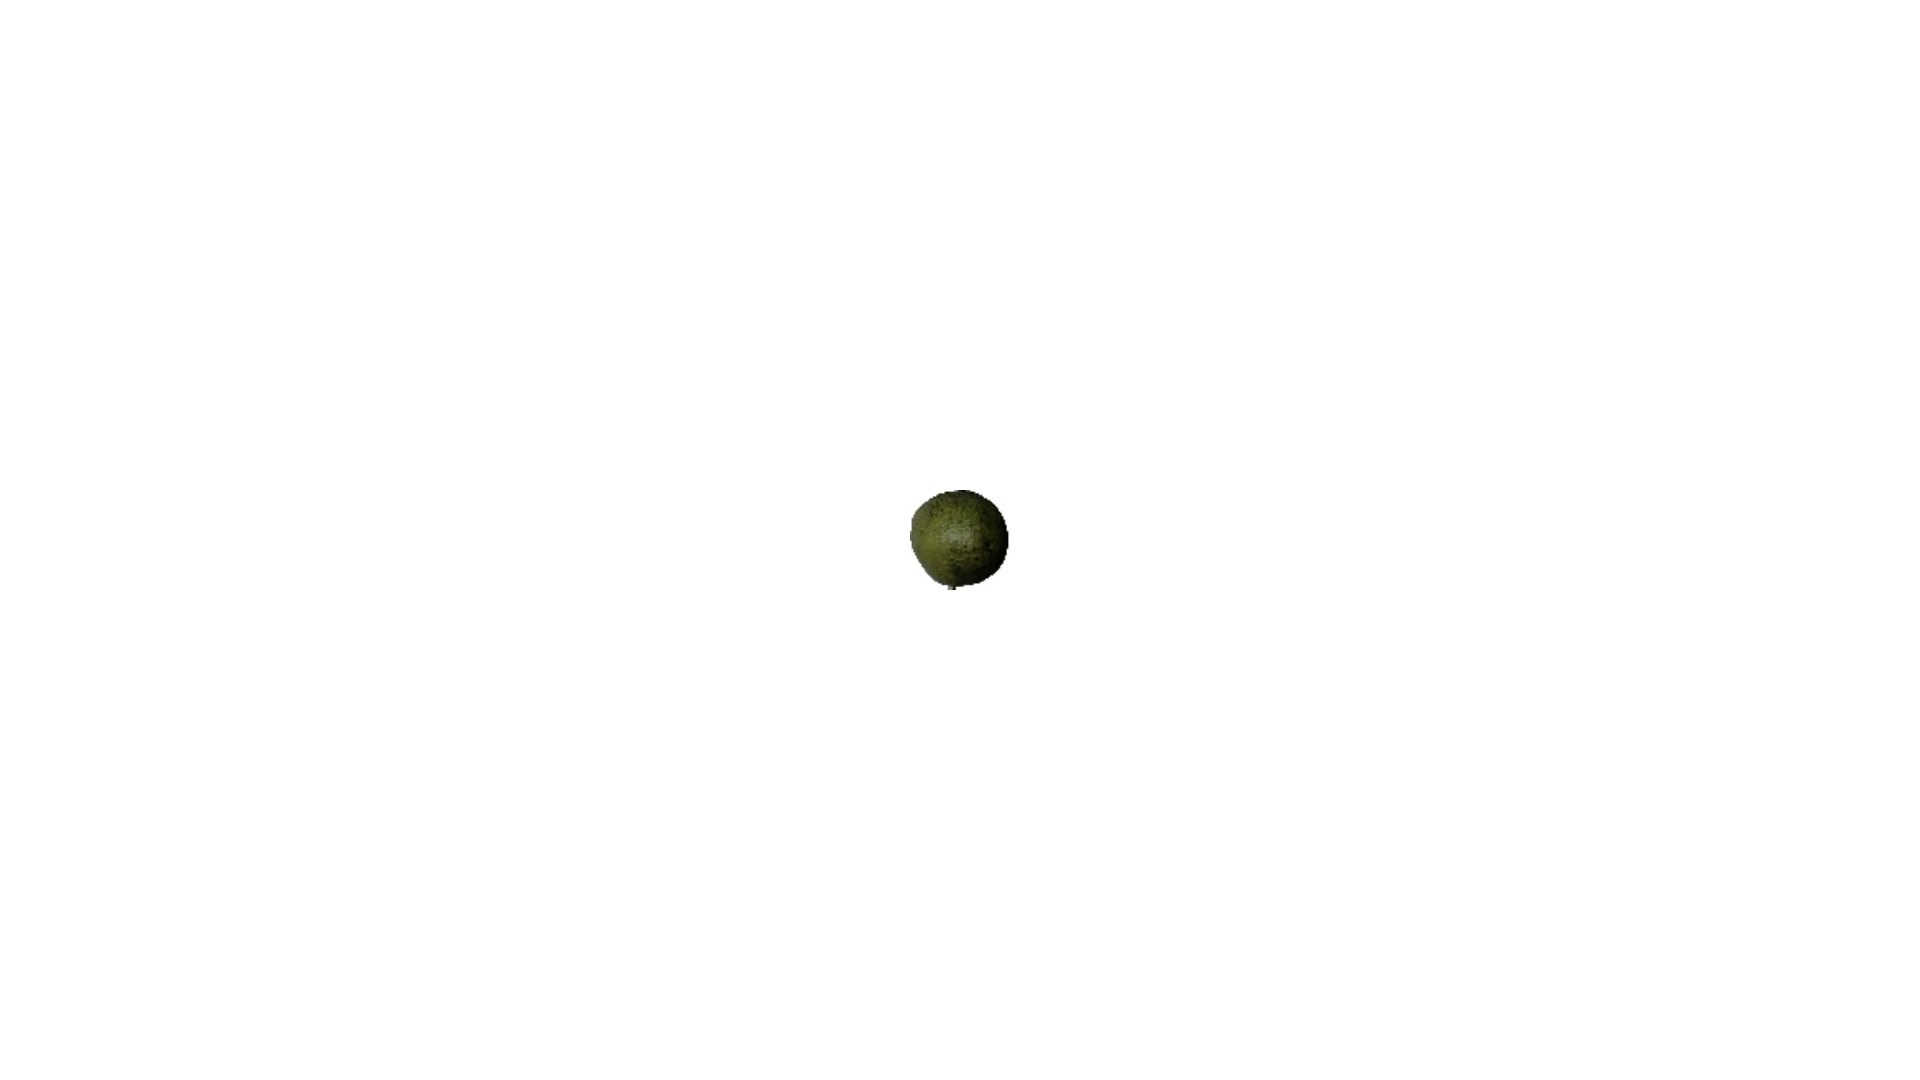abacate: (897, 488, 1011, 592)
